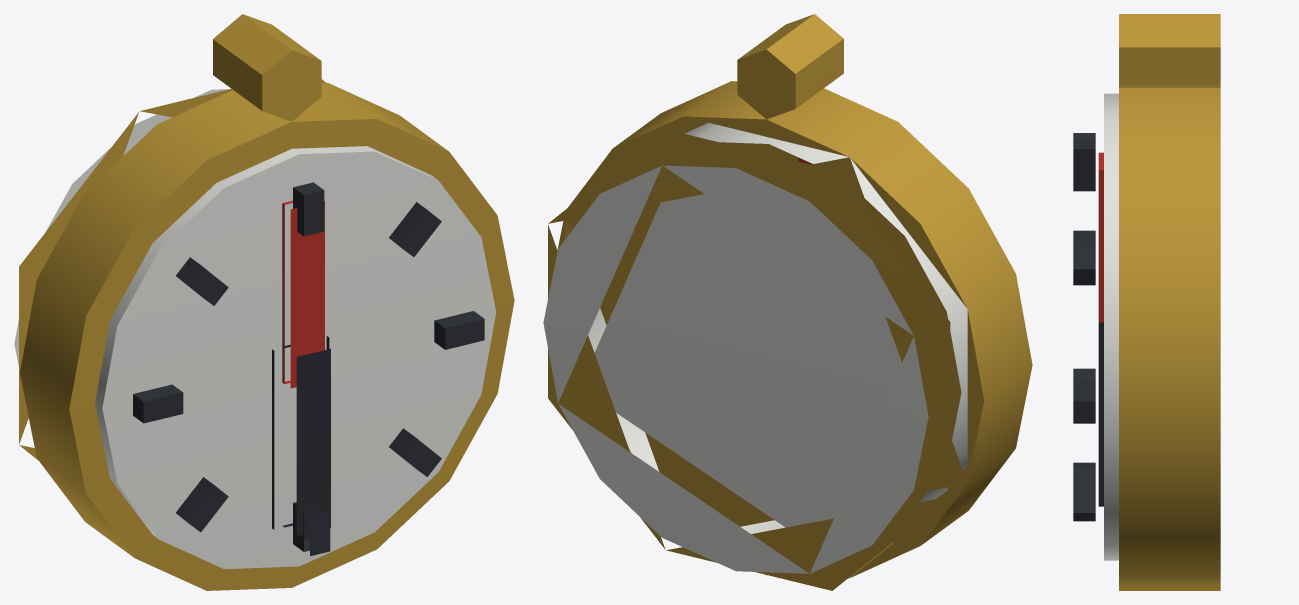
File: item_compass.glb
3 renders of one model, left to right at view 1: azimuth 30°, elevation 25°; view 2: azimuth 150°, elevation 25°; view 3: azimuth 270°, elevation 25°, orthographic. The views are drawn at different scales.
Parts seen in each view (by area): view 1: item_compass, item_compass_detail; view 2: item_compass; view 3: item_compass, item_compass_detail.
Boxes of the visible parts, bbox=[...] form: item_compass: bbox=[14, 14, 514, 590]; item_compass_detail: bbox=[133, 182, 484, 556]; item_compass: bbox=[543, 14, 1032, 590]; item_compass: bbox=[1098, 14, 1220, 590]; item_compass_detail: bbox=[1073, 133, 1095, 521].
Size of the model in its own units: 0.26 by 0.3 by 0.11.
